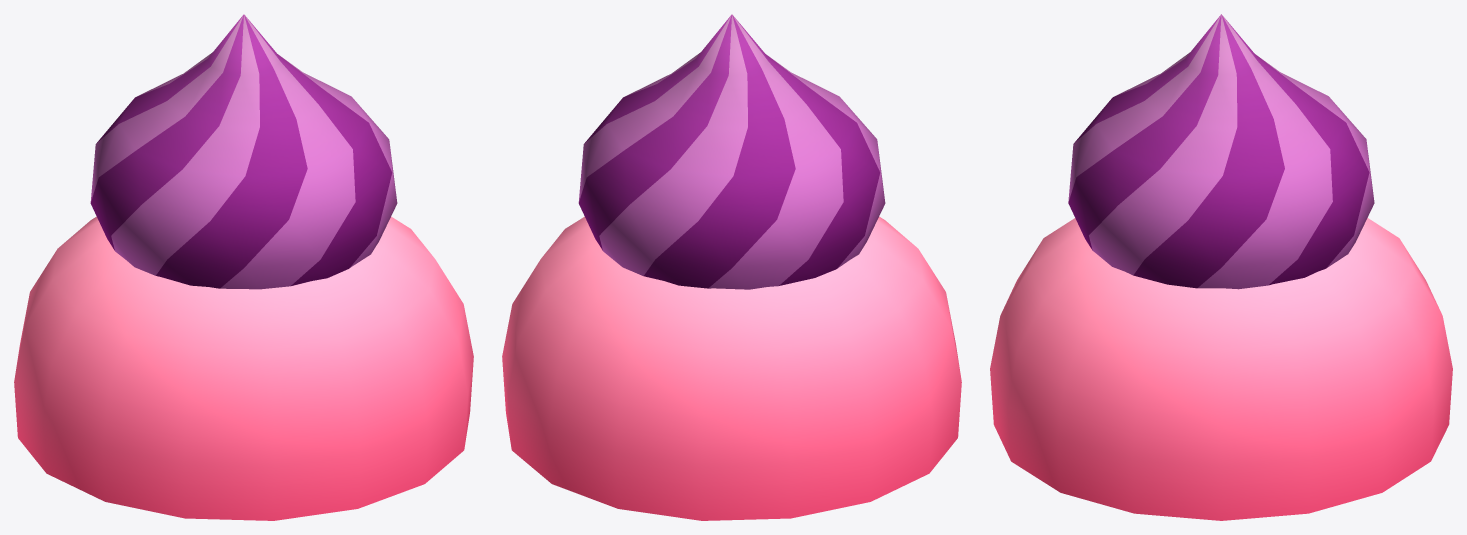
The model's file is TowerCap_01.glb.
3 views of the same model, side by side, from view 1: azimuth 30°, elevation 25°; view 2: azimuth 150°, elevation 25°; view 3: azimuth 270°, elevation 25° (orthographic).
Parts seen in each view (by area): view 1: TowerCap_01; view 2: TowerCap_01; view 3: TowerCap_01.
Boxes of the visible parts, x1,y1,x2,y2 form: TowerCap_01: (14, 14, 473, 520); TowerCap_01: (502, 14, 961, 520); TowerCap_01: (990, 14, 1452, 520).
Bounding box in the file's own units: 8.34 × 8.17 × 8.34.
2 materials, 2 textured.
